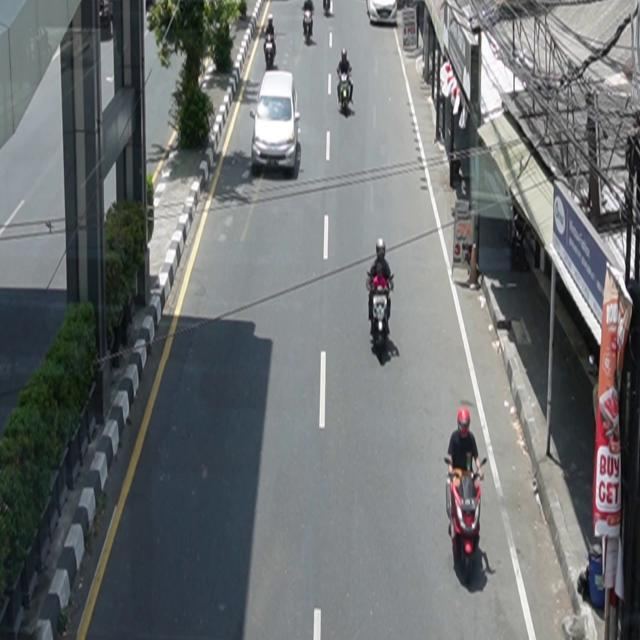car: (250, 71, 302, 177), (366, 1, 398, 26)
